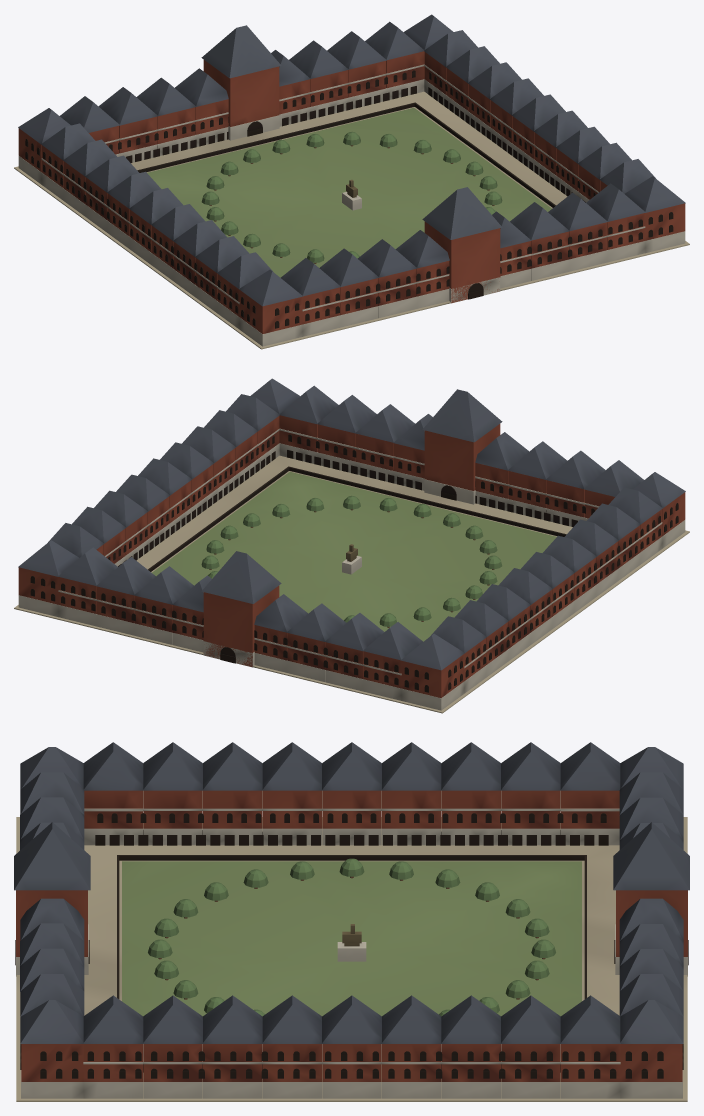
The model's file is place-royale.glb.
3 views of the same model, one above another, from view 1: azimuth 30°, elevation 25°; view 2: azimuth 150°, elevation 25°; view 3: azimuth 270°, elevation 25° (orthographic). The views are drawn at different scales.
Visible parts, largest first — view 1: p0_houses, p2_garden, p1_pavilions; view 2: p0_houses, p2_garden, p1_pavilions; view 3: p0_houses, p2_garden, p1_pavilions.
Part boxes in pixels (bbox=[...]): p0_houses: bbox=[14, 14, 689, 349]; p2_garden: bbox=[137, 102, 555, 277]; p1_pavilions: bbox=[201, 25, 502, 303]; p0_houses: bbox=[14, 378, 689, 713]; p2_garden: bbox=[148, 466, 566, 641]; p1_pavilions: bbox=[201, 389, 502, 667]; p0_houses: bbox=[16, 742, 687, 1101]; p2_garden: bbox=[117, 855, 586, 1016]; p1_pavilions: bbox=[14, 822, 689, 976].
Size of the model in its own units: 140 by 31.05 by 141.
